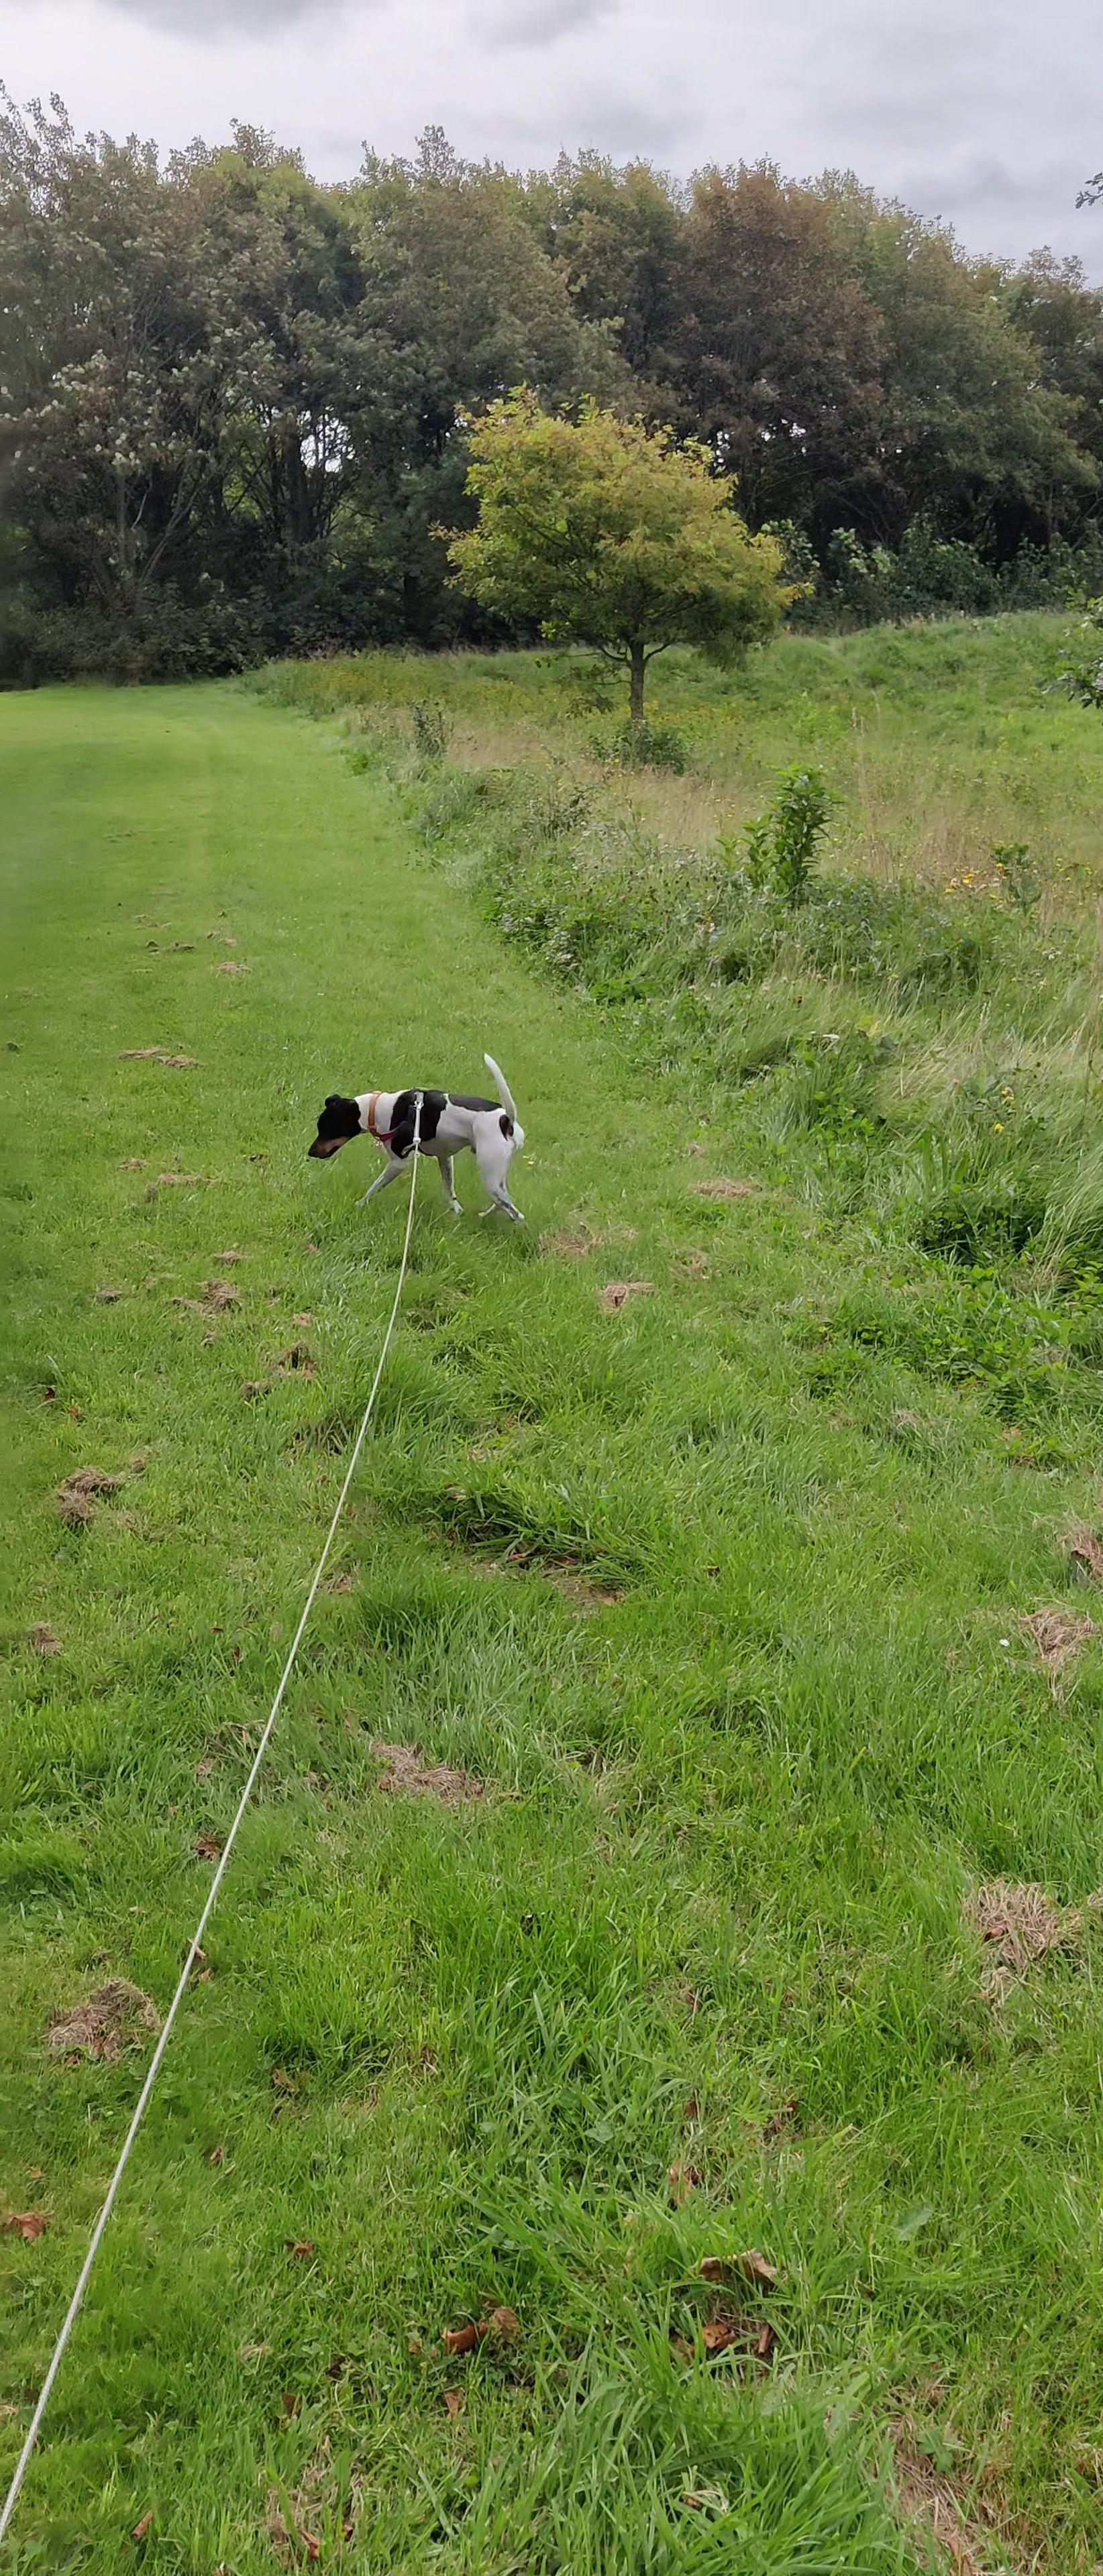Dog: (301, 1048, 531, 1229)
